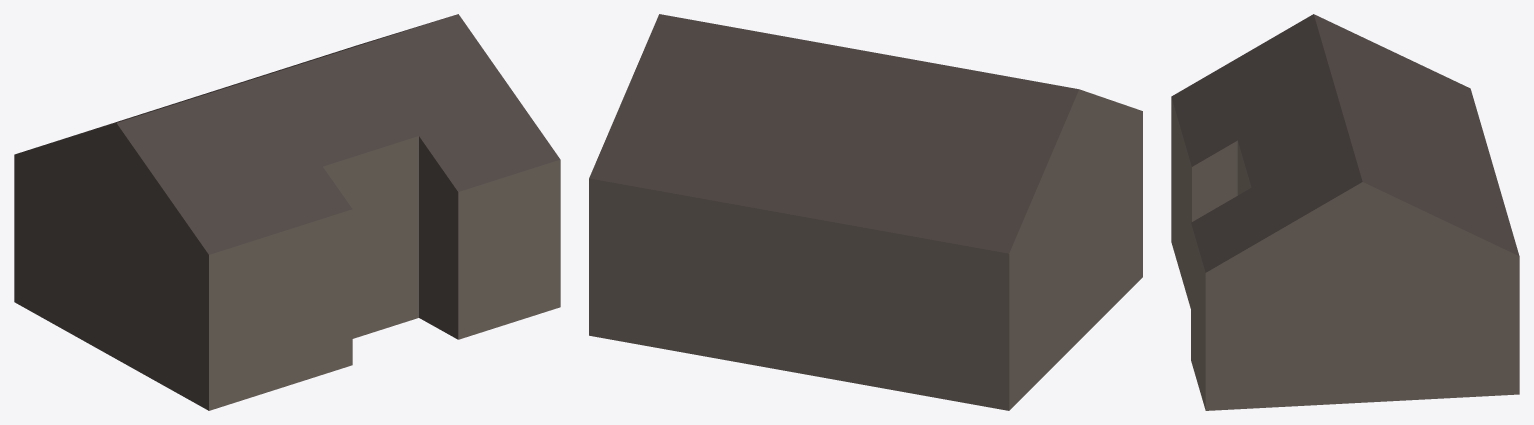
3 renders of one model, left to right at view 1: azimuth 30°, elevation 25°; view 2: azimuth 150°, elevation 25°; view 3: azimuth 270°, elevation 25°, orthographic. The views are drawn at different scales.
Parts seen in each view (by area): view 1: HP-w1376988684; view 2: HP-w1376988684; view 3: HP-w1376988684.
Boxes of the visible parts, <box> form: HP-w1376988684: <box>14,14,560,410</box>; HP-w1376988684: <box>589,14,1142,410</box>; HP-w1376988684: <box>1171,14,1519,410</box>.
Bounding box in the file's own units: 17.19 × 9.6 × 13.72.
